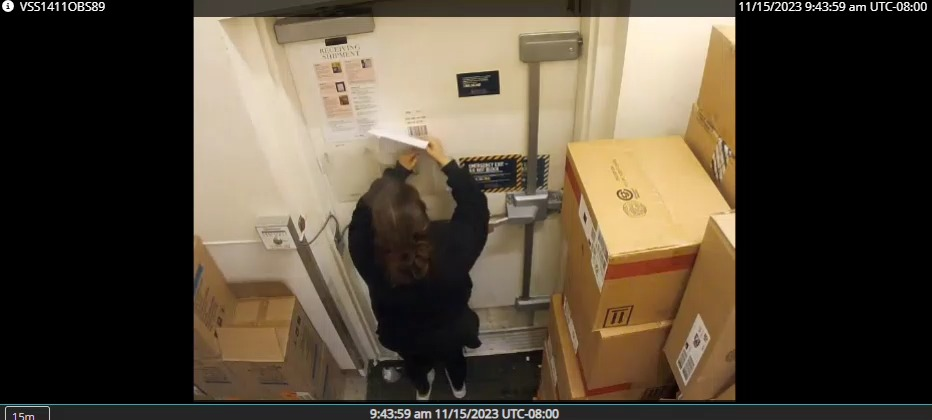No-gloves: (421, 135, 465, 173), (394, 143, 419, 173)
